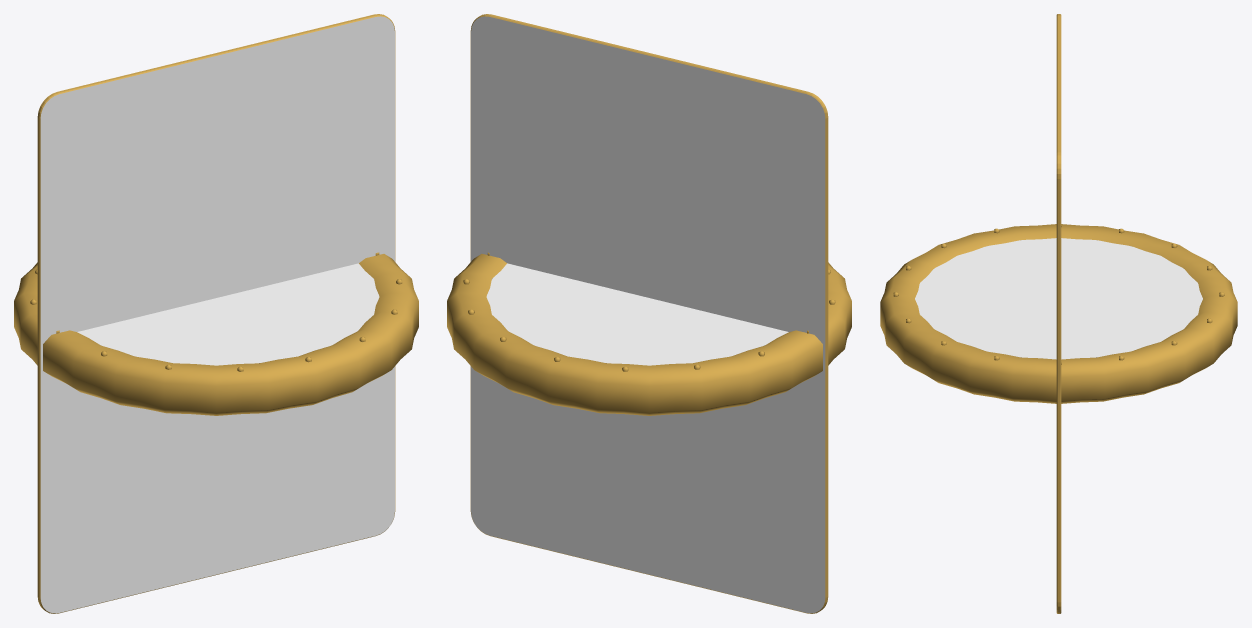
Rendered from pieces.glb.
3 renders of one model, left to right at view 1: azimuth 30°, elevation 25°; view 2: azimuth 150°, elevation 25°; view 3: azimuth 270°, elevation 25°, orthographic. The views are drawn at different scales.
Visible parts, largest first — view 1: CardMesh, MedallionMesh; view 2: CardMesh, MedallionMesh; view 3: MedallionMesh, CardMesh.
Boxes of the visible parts, box(x1,y1,x2,y2) form: CardMesh: box(37, 14, 395, 613); MedallionMesh: box(14, 252, 418, 415); CardMesh: box(470, 14, 828, 613); MedallionMesh: box(447, 252, 851, 415); MedallionMesh: box(880, 224, 1237, 403); CardMesh: box(1056, 14, 1061, 613).
Size of the model in its own units: 1.26 by 1.76 by 1.24.
